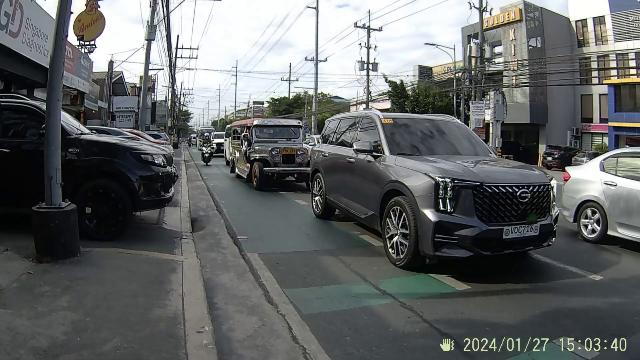car: (311, 109, 561, 268), (228, 119, 312, 191)
lamp_post: (424, 40, 461, 100)
utility_post: (36, 0, 84, 258), (352, 10, 382, 110), (302, 1, 326, 109), (278, 61, 302, 107)
